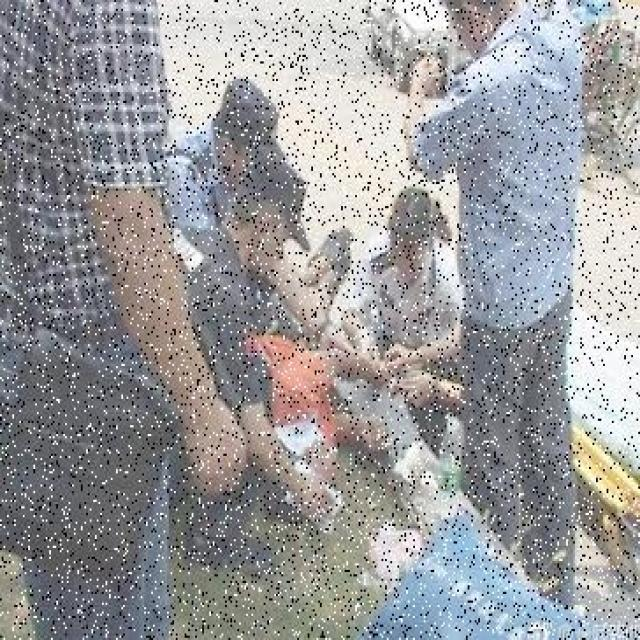fall: (276, 226, 371, 513)
